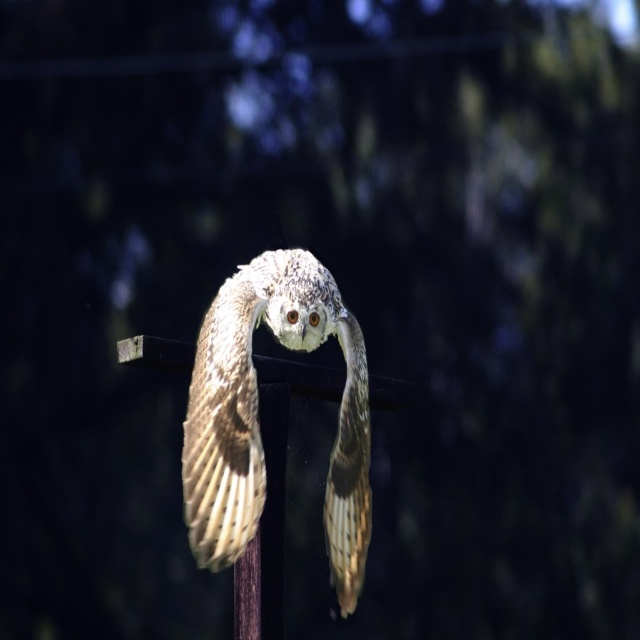Owl: (181, 246, 376, 620)
